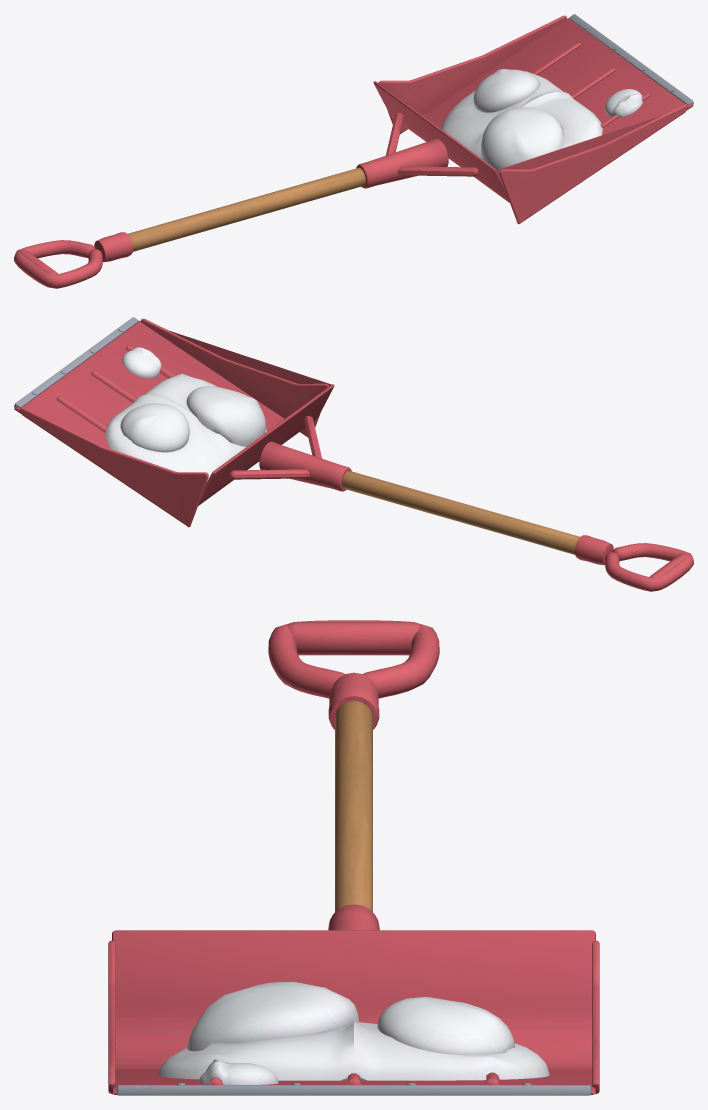
Rendered from pala_nieve.glb.
3 views of the same model, one above another, from view 1: azimuth 30°, elevation 25°; view 2: azimuth 150°, elevation 25°; view 3: azimuth 270°, elevation 25° (orthographic). The views are drawn at different scales.
Parts seen in each view (by area): view 1: snow-shovel_body; view 2: snow-shovel_body; view 3: snow-shovel_body.
Boxes of the visible parts, <box> form: snow-shovel_body: <box>14,14,693,288</box>; snow-shovel_body: <box>14,317,693,591</box>; snow-shovel_body: <box>108,620,599,1095</box>.
Bounding box in the file's own units: 1.22 × 0.1534 × 0.4265.
1 material, 1 textured.
